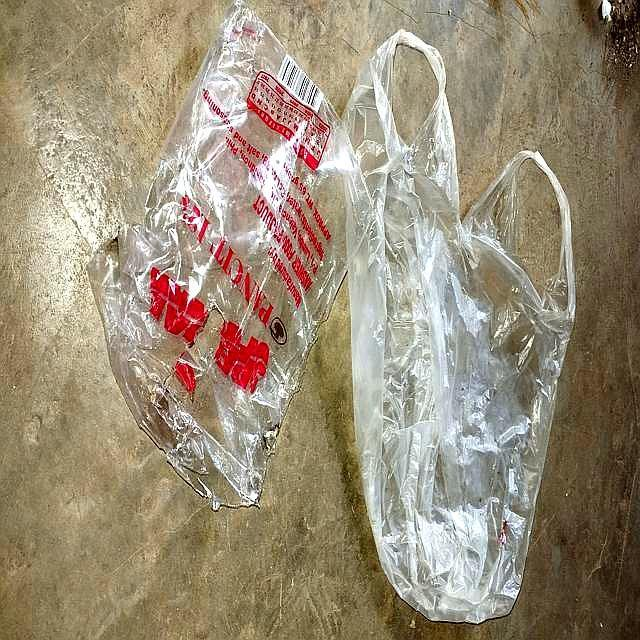Non-biodegradable: (45, 1, 393, 547), (319, 27, 583, 637)
